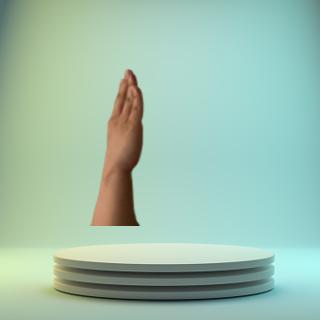RIGHT: (98, 63, 148, 175)
